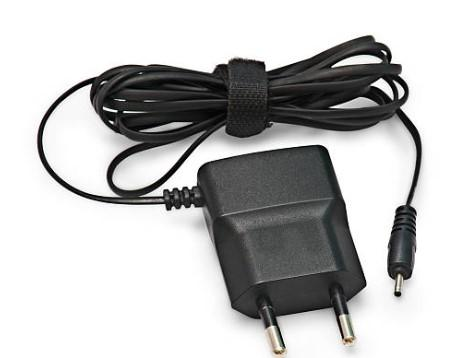cable: (38, 36, 422, 354)
